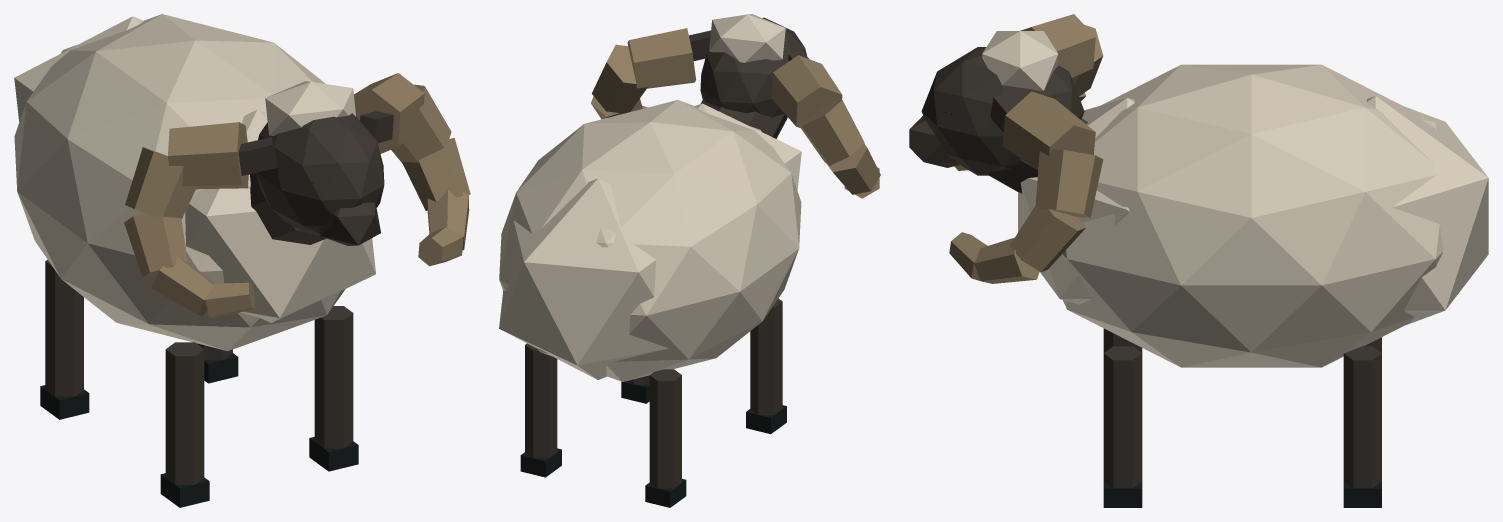
Rendered from fauna_ram.glb.
3 views of the same model, side by side, from view 1: azimuth 30°, elevation 25°; view 2: azimuth 150°, elevation 25°; view 3: azimuth 270°, elevation 25° (orthographic). The views are drawn at different scales.
Parts seen in each view (by area): view 1: fauna_ram; view 2: fauna_ram; view 3: fauna_ram.
Part boxes in pixels (x1,y1,x2,y2): fauna_ram: (14, 14, 470, 507); fauna_ram: (499, 14, 880, 507); fauna_ram: (909, 14, 1488, 507).
Bounding box in the file's own units: 0.866 × 1.12 × 1.36.
